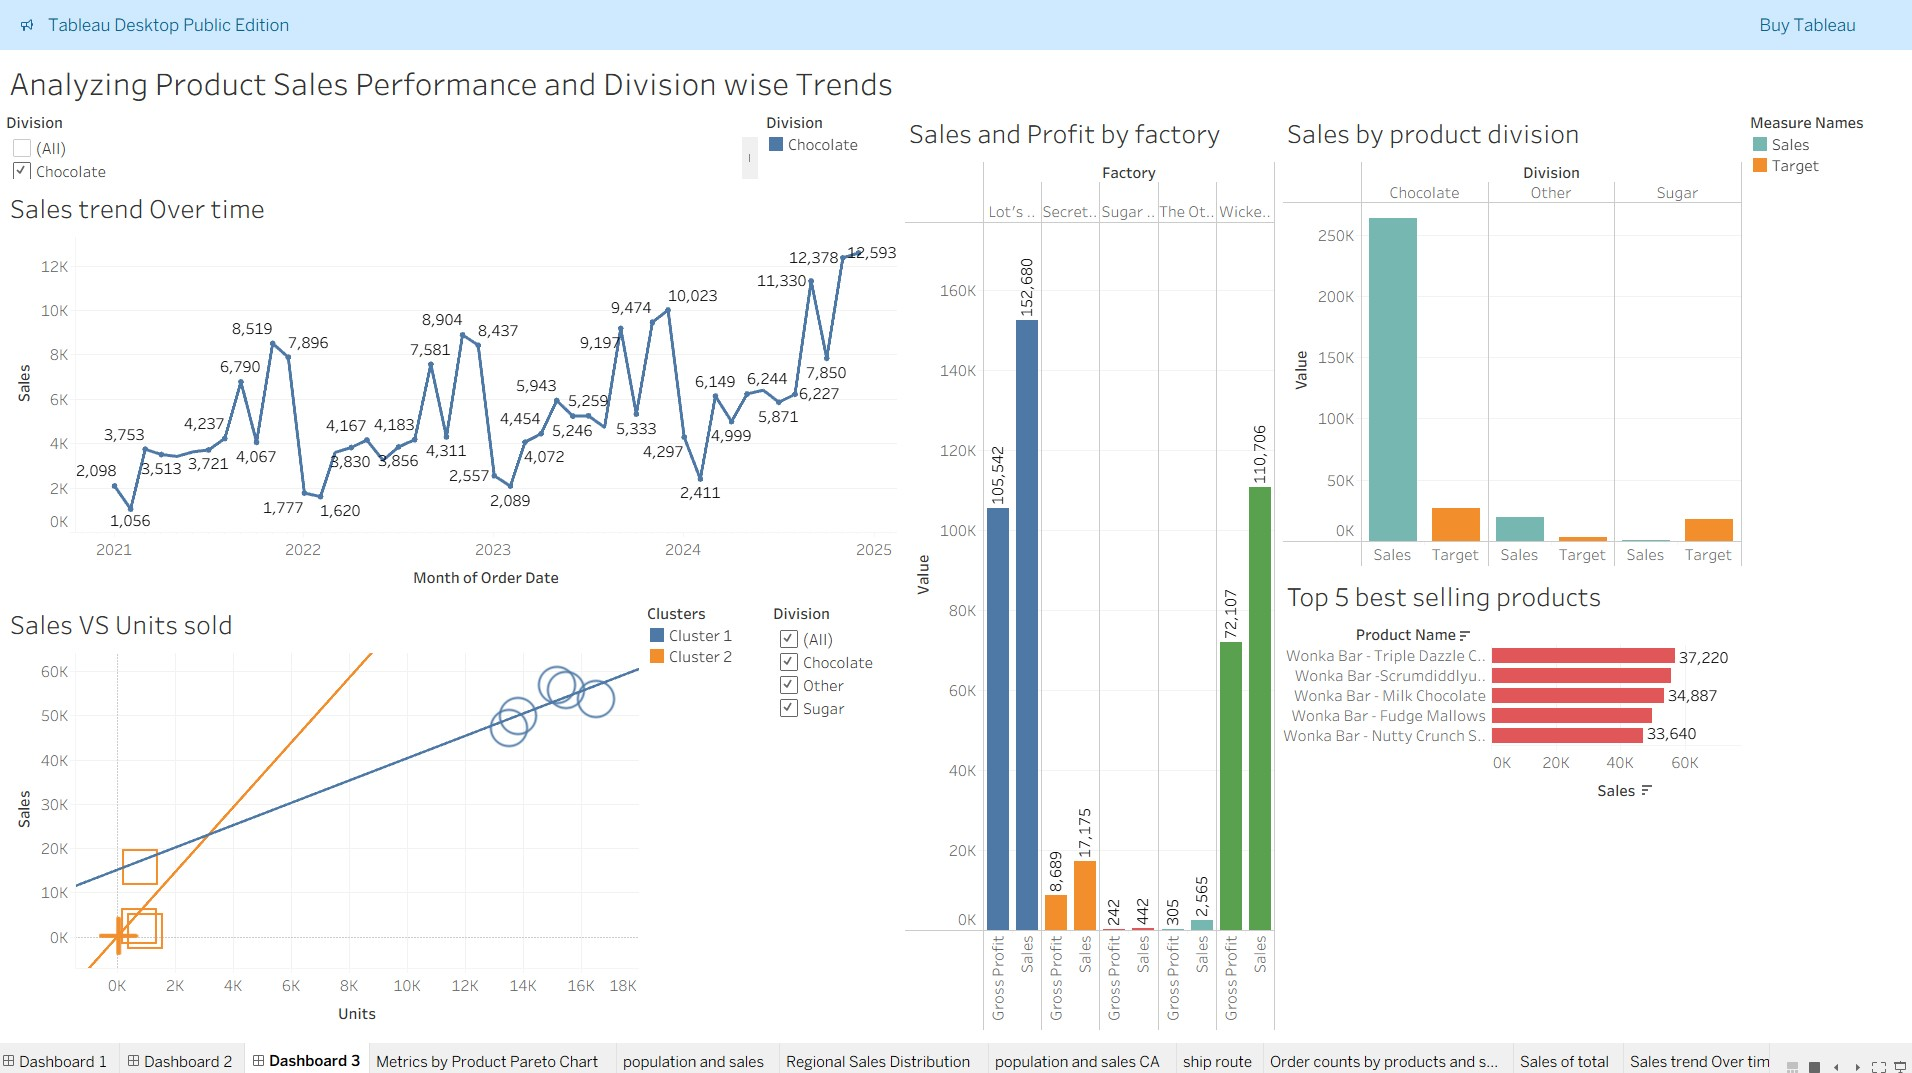

This screenshot's page, from the dashboard's own definition file:
{"tool":"tableau","page":{"name":"Dashboard 3","canvas":[1000,1000],"units":"permille","ordinal":2},"visuals":[{"type":"title","box":[4.8,10,990.3,62.4]},{"type":"filter","title":"Sales trend Over time","param":"[federated.1p94yvg0sf2p63112fp8r1g3j99v].[none:Division:nk]","box":[4.8,72.4,389.4,74.1]},{"type":"legend","title":"Sales trend Over time","param":"[federated.1p94yvg0sf2p63112fp8r1g3j99v].[none:Division:nk]","box":[394.2,72.4,71.3,74.1]},{"type":"worksheet","title":"Sales and Profit by factory","mark":"Automatic","cols":["Factory"],"box":[465.5,72.4,193.6,917.6]},{"type":"worksheet","title":"Sales by product division","mark":"Bar","cols":["Division"],"box":[659.1,72.4,239.6,458.8]},{"type":"legend","title":"Sales by product division","param":"[federated.1p94yvg0sf2p63112fp8r1g3j99v].[:Measure Names]","box":[898.6,72.4,96.6,89.9]},{"type":"worksheet","title":"Sales trend Over time","mark":"Line","rows":["Sales"],"cols":["Order Date"],"box":[4.8,146.5,460.7,412.2]},{"type":"worksheet","title":"Top 5 best selling products","mark":"Automatic","rows":["Product Name"],"cols":["Sales"],"box":[659.1,531.2,239.6,458.8]},{"type":"worksheet","title":"Sales VS Units sold","mark":"Automatic","rows":["Sales"],"cols":["Units"],"box":[4.8,558.7,328.3,431.3]},{"type":"legend","title":"Sales VS Units sold","param":"[federated.1p94yvg0sf2p63112fp8r1g3j99v].[none:AdhocCluster:1:ok]","box":[333.1,558.7,64.6,431.3]},{"type":"filter","title":"Sales VS Units sold","param":"[federated.1p94yvg0sf2p63112fp8r1g3j99v].[none:Division:nk]","box":[397.7,558.7,67.8,431.3]}]}

Visuals, with their boxes on the dashboard's canvas, which has no fixed pixel size, in thousandths of its width and height (x1, y1, x2, y2). These are canvas units, not pixel positions in the 1912x1073 screenshot, which may show the page scaled, cropped or inside an application window:
title: [5, 10, 995, 72]
"Sales trend Over time" filter: [5, 72, 394, 146]
"Sales trend Over time" legend: [394, 72, 466, 146]
"Sales and Profit by factory" worksheet: [466, 72, 659, 990]
"Sales by product division" worksheet (Bar marks): [659, 72, 899, 531]
"Sales by product division" legend: [899, 72, 995, 162]
"Sales trend Over time" worksheet (Line marks): [5, 146, 466, 559]
"Top 5 best selling products" worksheet: [659, 531, 899, 990]
"Sales VS Units sold" worksheet: [5, 559, 333, 990]
"Sales VS Units sold" legend: [333, 559, 398, 990]
"Sales VS Units sold" filter: [398, 559, 466, 990]
